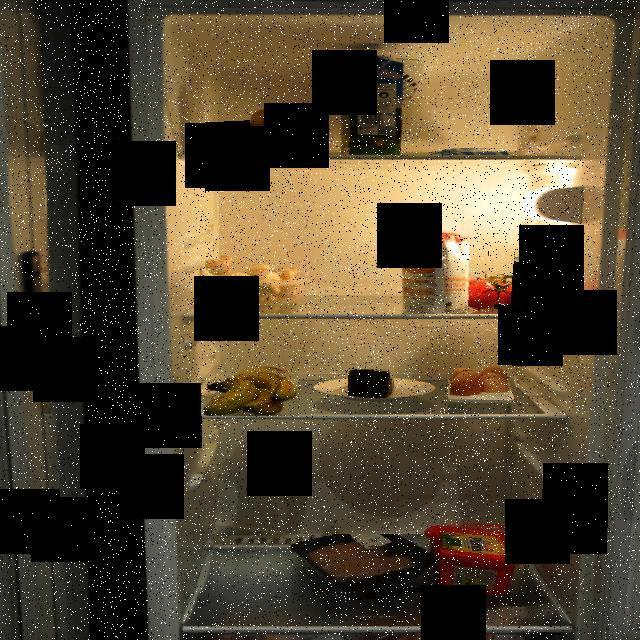banana: (200, 364, 300, 416)
butter: (422, 520, 526, 594)
cheese: (348, 366, 394, 398)
chicken_breast: (292, 534, 444, 602)
chocolate: (427, 148, 511, 156)
eggs: (448, 365, 512, 399)
milk: (336, 51, 404, 157)
mushrooms: (205, 253, 311, 306)
potato: (195, 109, 317, 156)
sugar: (398, 224, 481, 314)
tomato: (465, 252, 548, 309)
